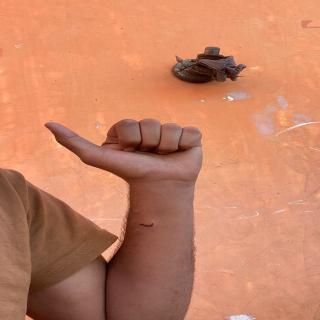DAD: (38, 106, 214, 185)
